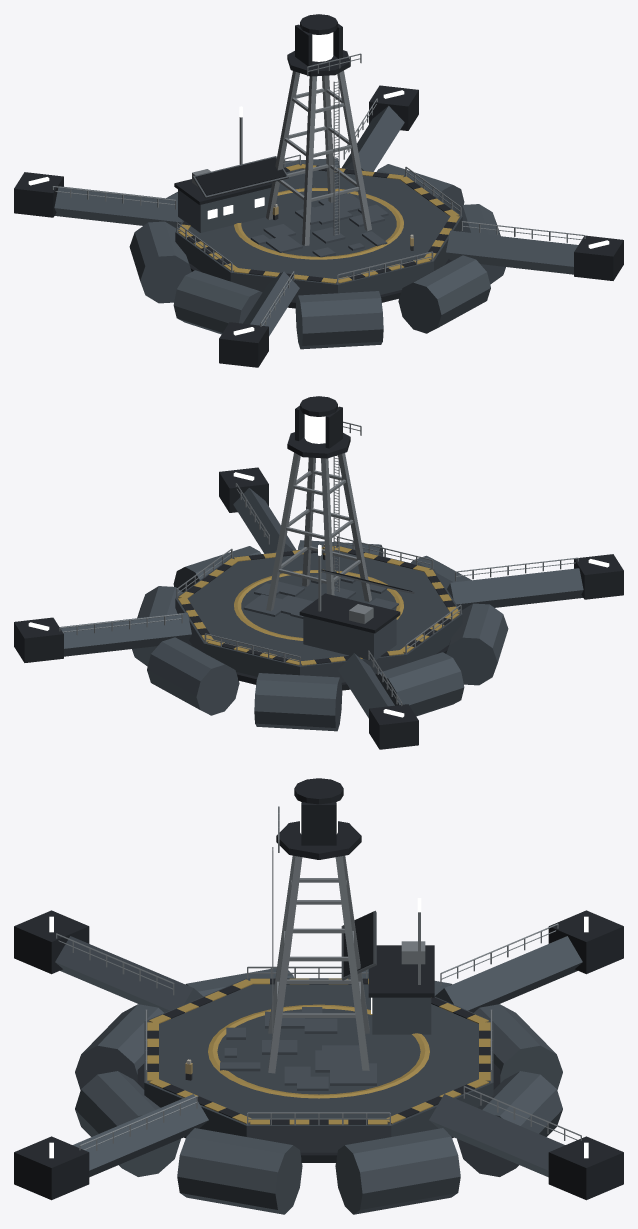
Rendered from od_beacon.glb.
The picture shows the model from 3 angles, top to bottom: view 1: azimuth 30°, elevation 25°; view 2: azimuth 150°, elevation 25°; view 3: azimuth 270°, elevation 25°; orthographic projection. The views are drawn at different scales.
Parts seen in each view (by area): view 1: od_beacon_body, od_beacon_lit_emit, od_beacon_lamp_body; view 2: od_beacon_body, od_beacon_lit_emit, od_beacon_lamp_body; view 3: od_beacon_body, od_beacon_lamp_body.
Boxes of the visible parts, x1,y1,x2,y2 form: od_beacon_body: (14,14,623,367); od_beacon_lit_emit: (28,32,609,335); od_beacon_lamp_body: (295,23,342,66); od_beacon_body: (14,396,623,749); od_beacon_lit_emit: (28,414,609,717); od_beacon_lamp_body: (295,405,342,448); od_beacon_body: (14,778,623,1214); od_beacon_lamp_body: (301,802,336,845).
Bounding box in the file's own units: 51.62 × 31.05 × 51.62.
